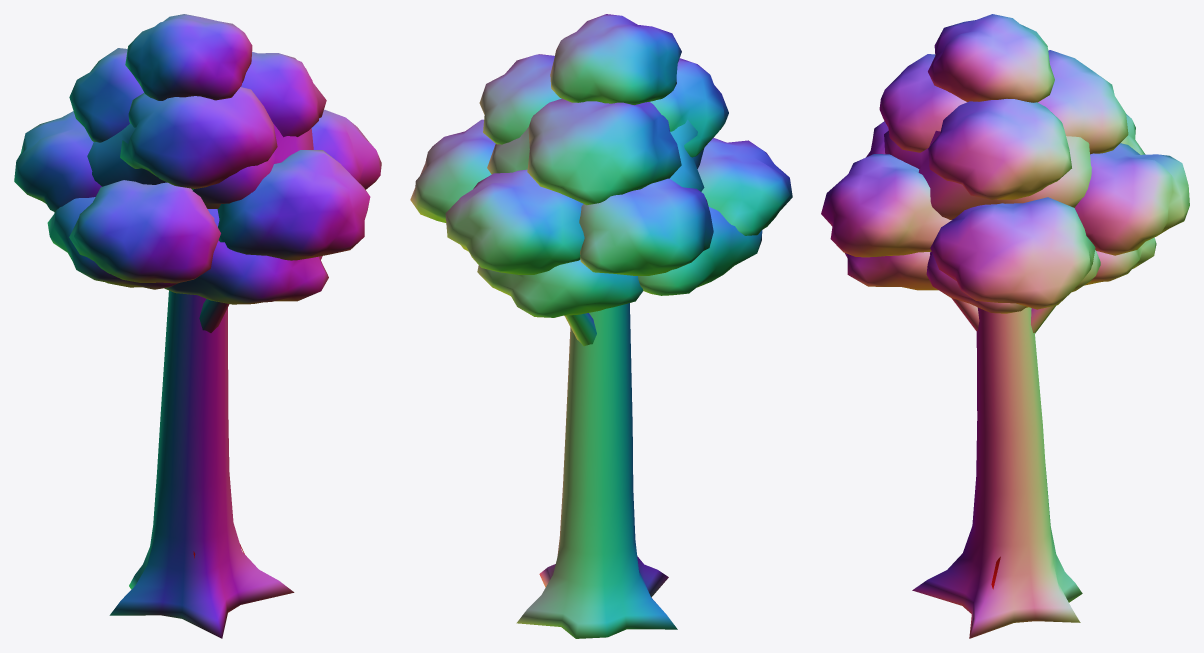
The model's file is SM_Foliage_Plains_Oak_C.fbx.
The picture shows the model from 3 angles, left to right: view 1: azimuth 30°, elevation 25°; view 2: azimuth 150°, elevation 25°; view 3: azimuth 270°, elevation 25°; orthographic projection. The views are drawn at different scales.
Visible parts, largest first — view 1: SM_Foliage_Plains_Oak_C; view 2: SM_Foliage_Plains_Oak_C; view 3: SM_Foliage_Plains_Oak_C.
Boxes of the visible parts, bbox=[...] form: SM_Foliage_Plains_Oak_C: bbox=[14, 14, 381, 638]; SM_Foliage_Plains_Oak_C: bbox=[410, 14, 792, 638]; SM_Foliage_Plains_Oak_C: bbox=[821, 14, 1189, 638].
Bounding box in the file's own units: 2.31 × 3.95 × 2.31.
